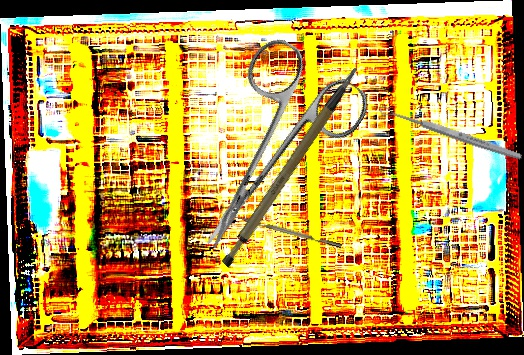Chopper: (227, 212, 343, 254)
Iris Scissors: (154, 30, 376, 278)
Scalpel Handle: (197, 66, 388, 271)
Surgical Spoon: (378, 103, 524, 163)
